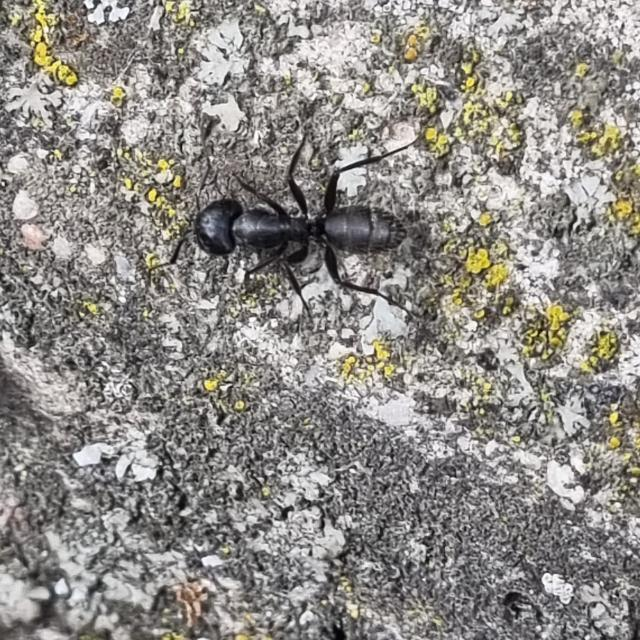Camponotus: (139, 164, 457, 298)
